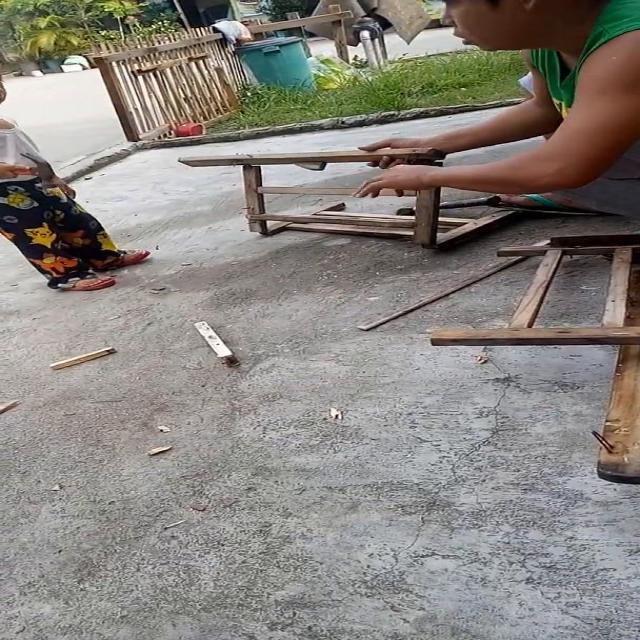hammer: (0, 151, 57, 188)
